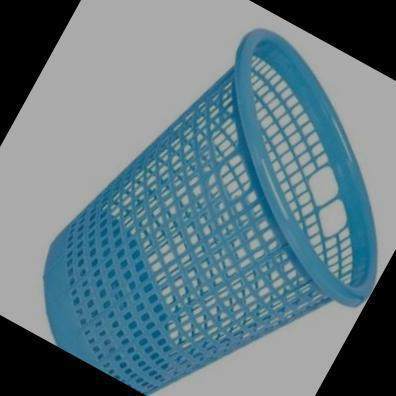Bote de Basura: (5, 0, 396, 396)
